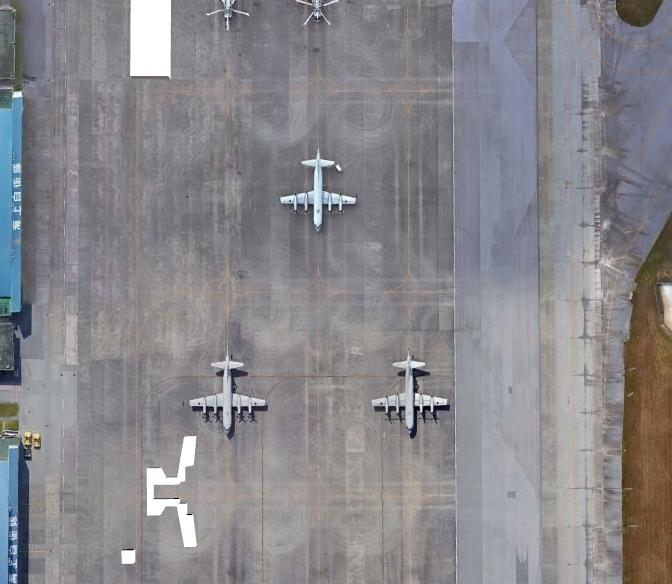A9: (275, 136, 361, 235), (187, 337, 273, 436), (367, 337, 453, 436)
